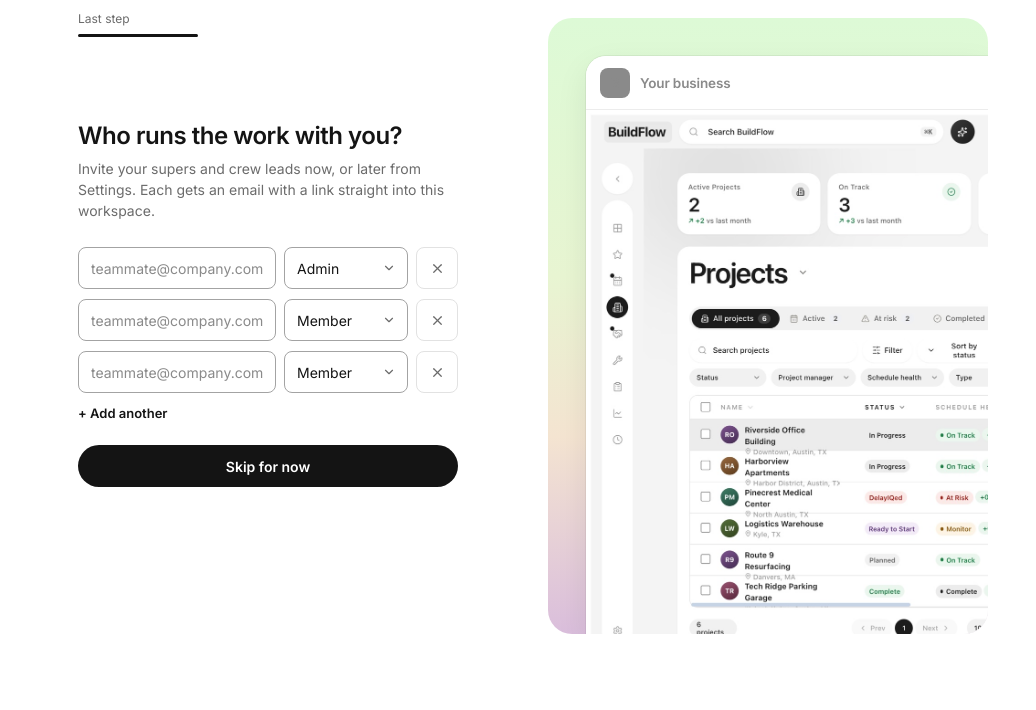
Test: the signup flow's last step › opens the program's own list for the access level, and the choice reaches the row
Type "dana@reyespaving.com" into the field named "Email 2" at coordinates (177, 320), box [78,299,276,341]
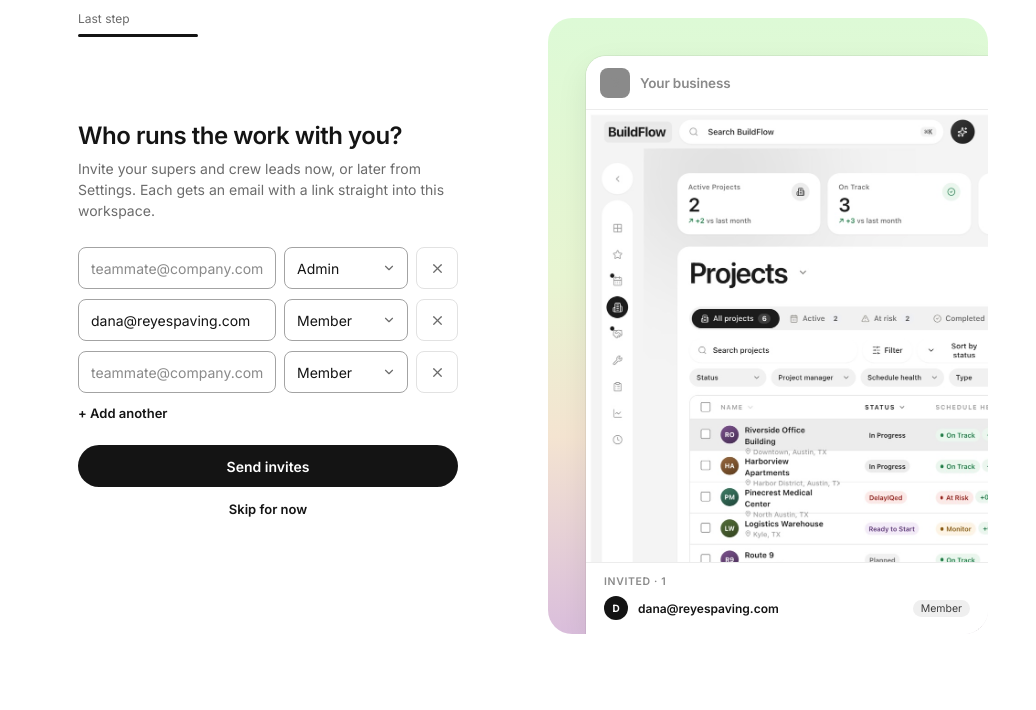
Press the mouse on the 2nd dropdown named "Access level 2" at coordinates (346, 320), box [284,299,408,341]
(page scrolled)
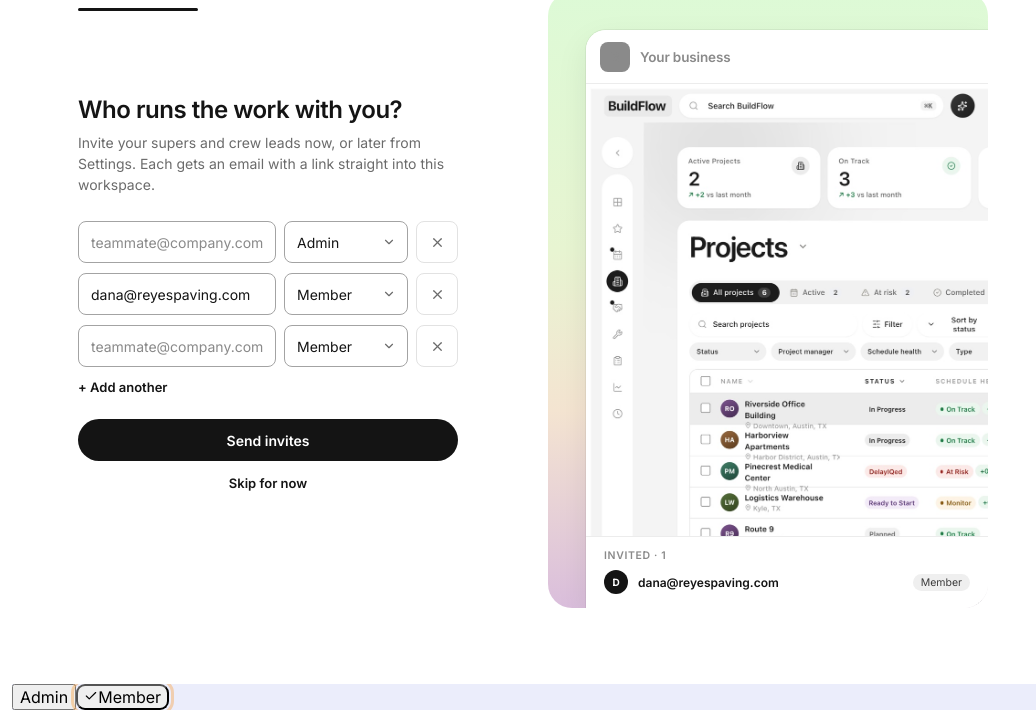
Now the options read "Admin", "Member", in this order
Click the option "Admin" at coordinates (44, 697), box [12,684,76,709]
(page scrolled)
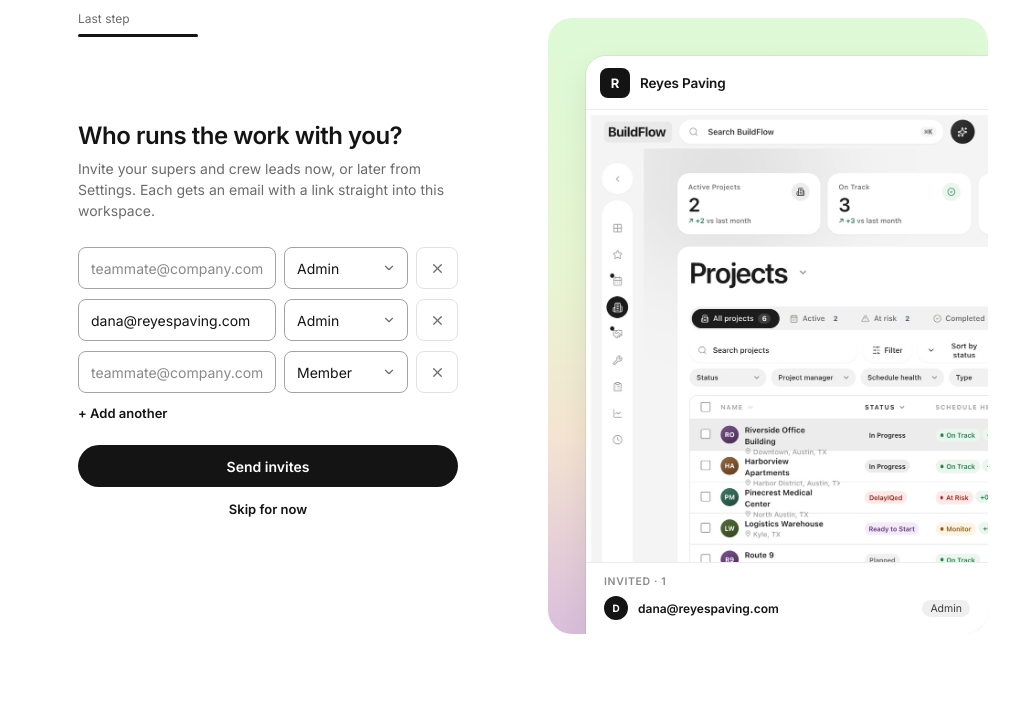
Now the list is gone
Now the 2nd dropdown named "Access level 2" shows "Admin", box [284,299,408,341]
Now the text "Admin" is shown, box [922,600,970,616]
